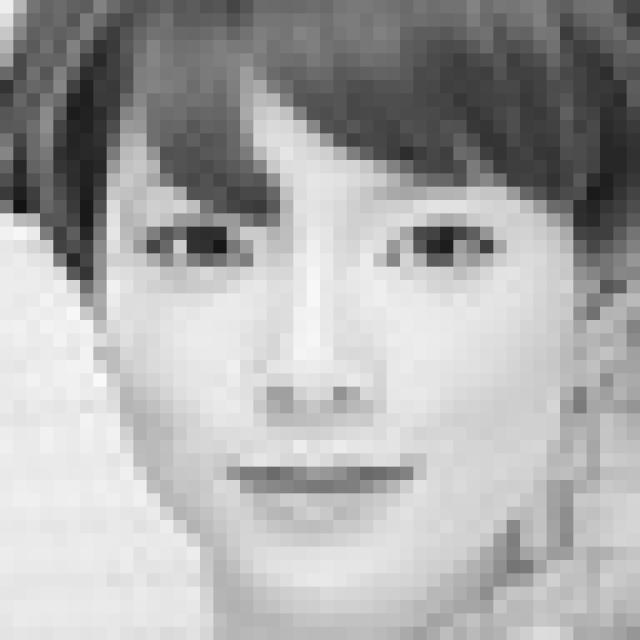neutral: (132, 160, 528, 546)
